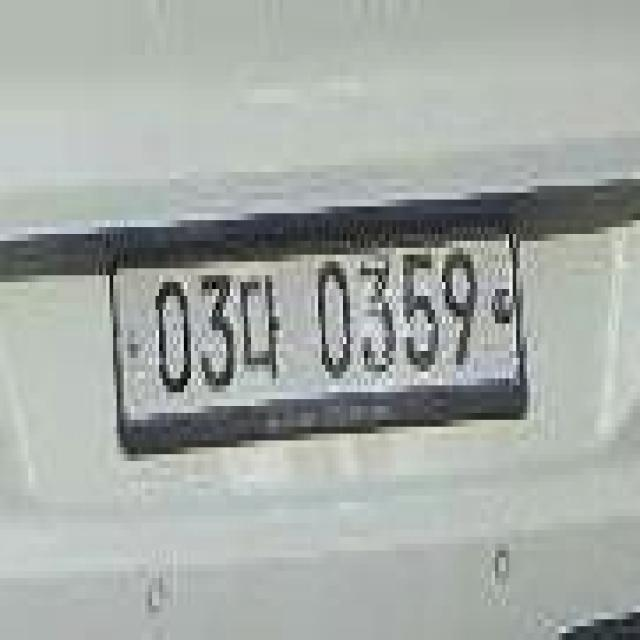illegal_plate: (107, 215, 534, 452)
